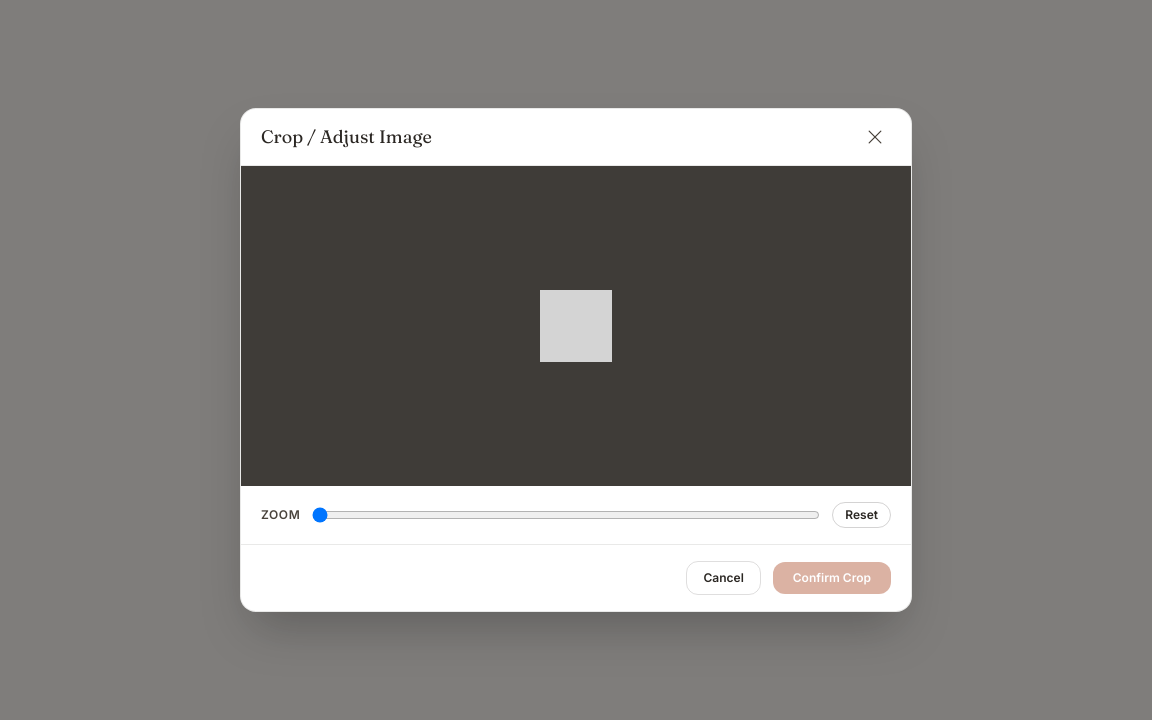
Test: ImageCropModal › resets zoom/crop position when Reset is clicked
Set the slider labelled "Zoom" to "2" at (566, 515), box [312,507,820,523]
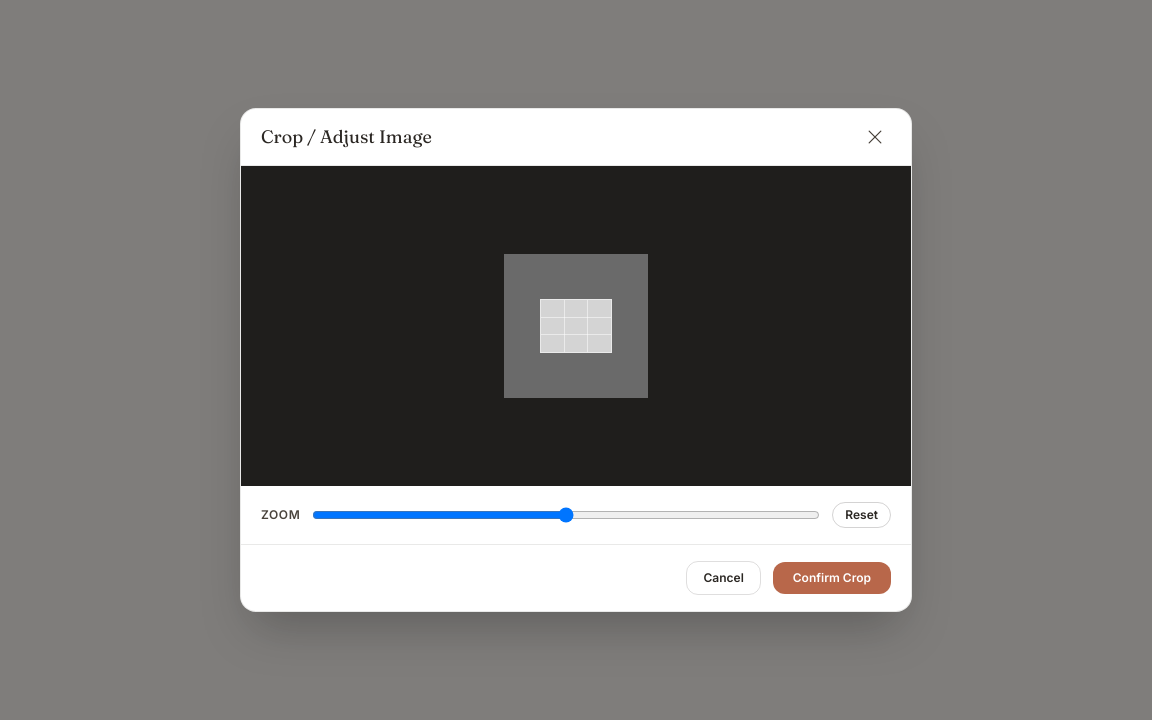
Click the button "Reset" at (862, 515), box [832,502,891,528]
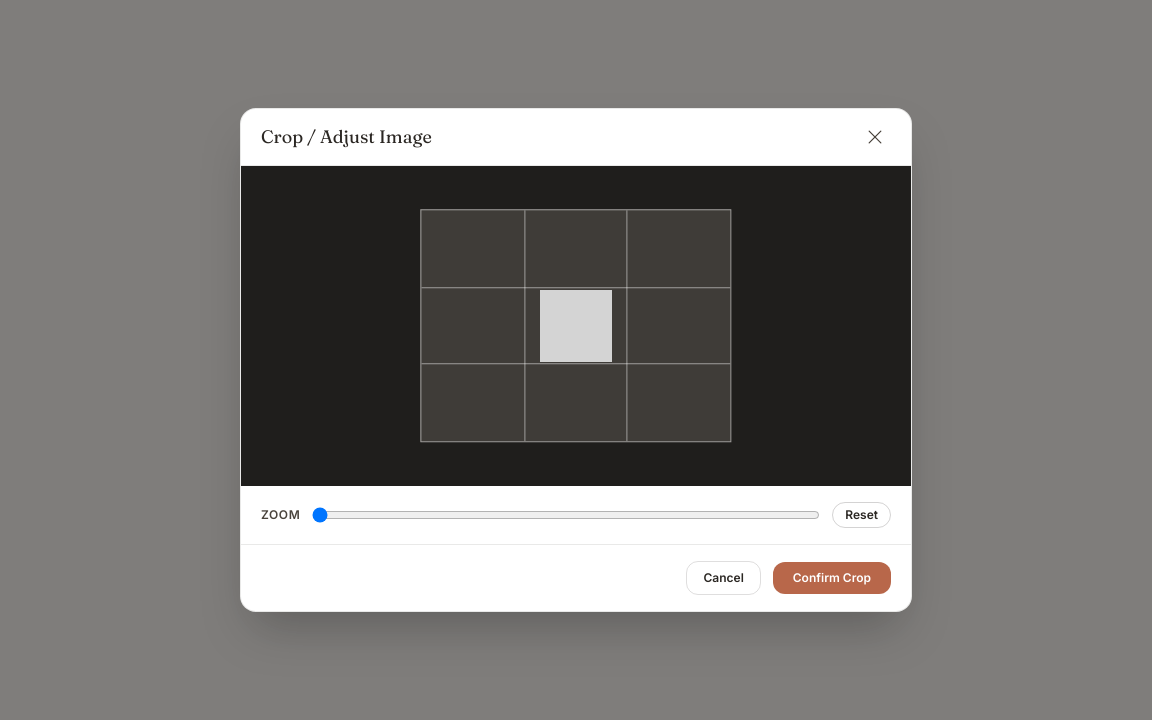
Now the slider labelled "Zoom" holds "1", box [312,507,820,523]
